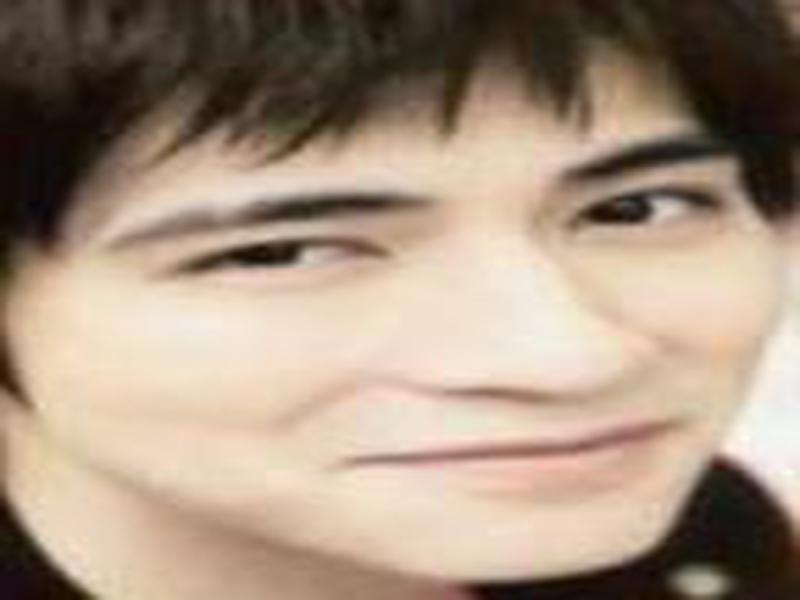without_mask: (8, 95, 781, 577)
